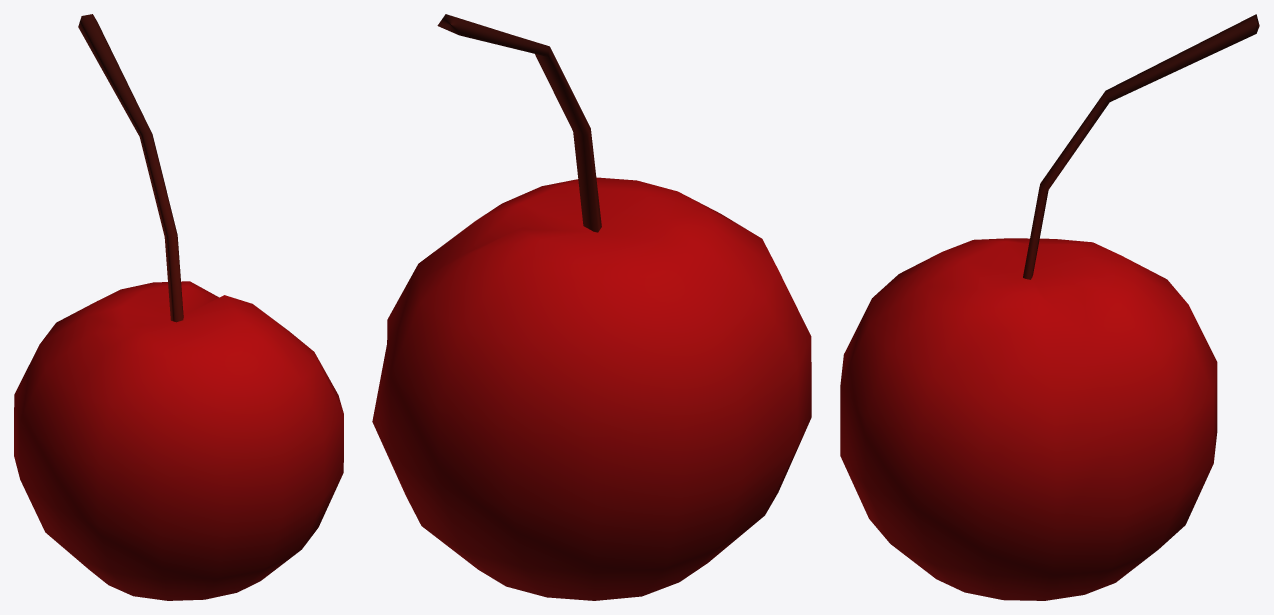
File: Cherry_Regular.fbx
The picture shows the model from 3 angles, left to right: view 1: azimuth 30°, elevation 25°; view 2: azimuth 150°, elevation 25°; view 3: azimuth 270°, elevation 25°; orthographic projection. The views are drawn at different scales.
Parts seen in each view (by area): view 1: Cherry_Regular; view 2: Cherry_Regular; view 3: Cherry_Regular.
Part boxes in pixels (x1=…): Cherry_Regular: x1=14, y1=14, x2=343, y2=600; Cherry_Regular: x1=372, y1=14, x2=811, y2=600; Cherry_Regular: x1=840, y1=14, x2=1259, y2=600.
Size of the model in its own units: 12.11 by 20.22 by 13.62.
